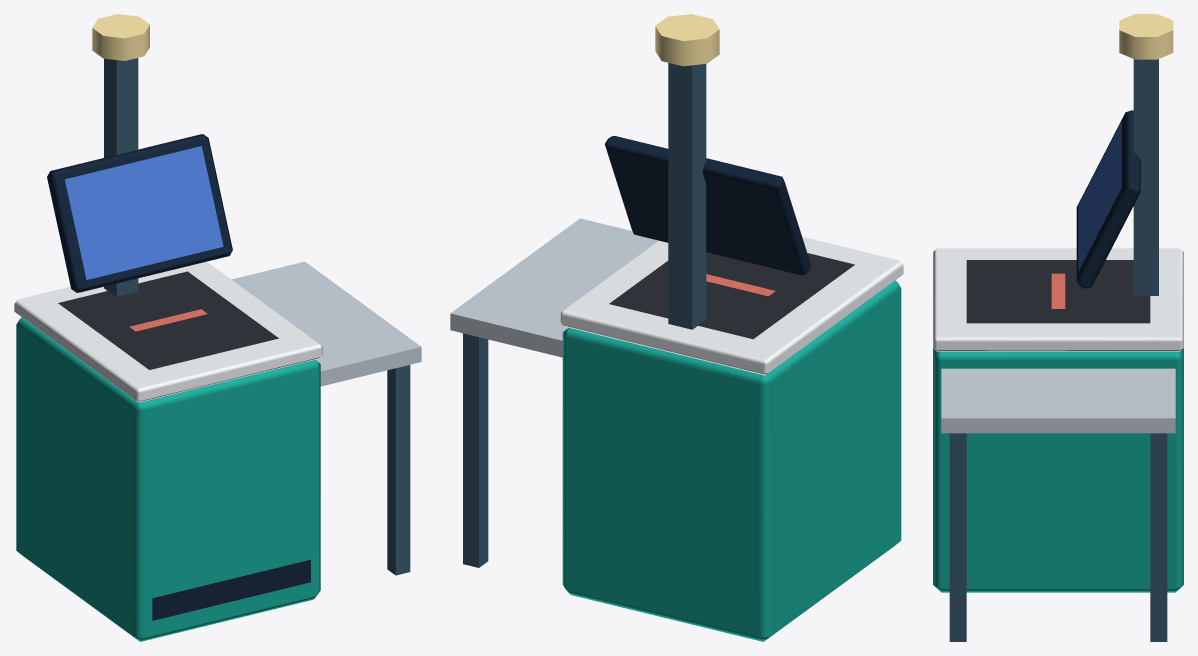
File: CM_Interior_SelfCheckout.fbx
The picture shows the model from 3 angles, left to right: view 1: azimuth 30°, elevation 25°; view 2: azimuth 150°, elevation 25°; view 3: azimuth 270°, elevation 25°; orthographic projection. The views are drawn at different scales.
Visible parts, largest first — view 1: Body, Screen; view 2: Body, Screen; view 3: Body, Screen.
Boxes of the visible parts, <box> form: Body: <box>14,14,421,641</box>; Screen: <box>47,134,232,292</box>; Body: <box>450,14,903,641</box>; Screen: <box>605,136,811,275</box>; Body: <box>933,14,1183,641</box>; Screen: <box>1076,110,1140,289</box>.
Size of the model in its own units: 4 by 3.01 by 6.9.
1 material, 1 textured.
